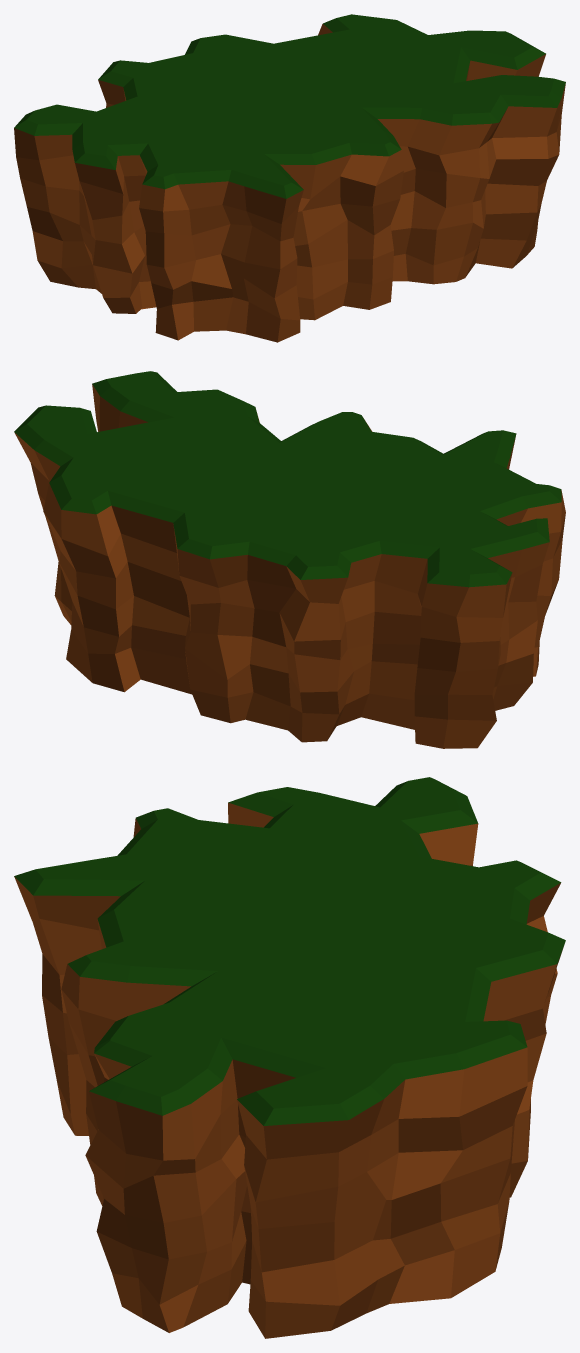
File: Cliff_1.fbx
3 renders of one model, top to bottom at view 1: azimuth 30°, elevation 25°; view 2: azimuth 150°, elevation 25°; view 3: azimuth 270°, elevation 25°, orthographic. The views are drawn at different scales.
Visible parts, largest first — view 1: Cliff_1; view 2: Cliff_1; view 3: Cliff_1.
Part boxes in pixels (x1,y1,x2,y2): Cliff_1: (14,14,565,342); Cliff_1: (14,371,565,748); Cliff_1: (14,777,565,1338).
Bounding box in the file's own units: 5310 × 1797 × 3571.
